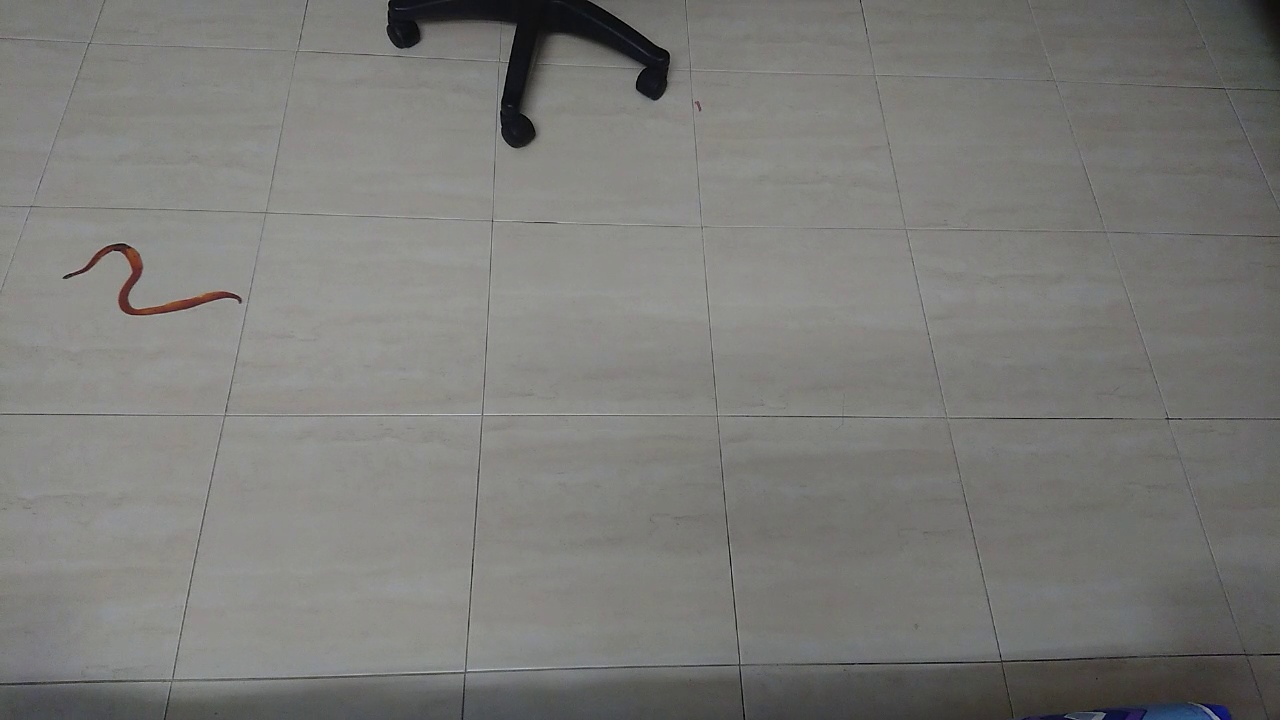snake: (46, 229, 257, 331)
